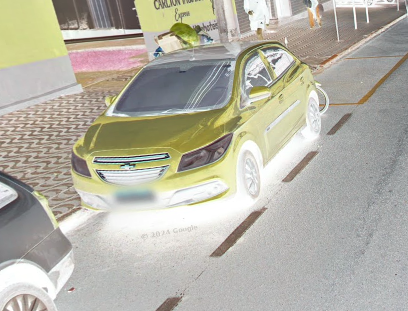car: (65, 38, 331, 221)
